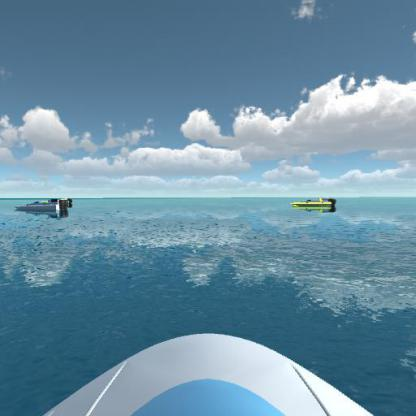usv1: (14, 198, 72, 222)
usv2: (288, 194, 339, 216), (43, 192, 76, 207)
